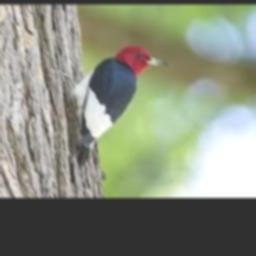Woodpecker: (58, 45, 169, 167)
